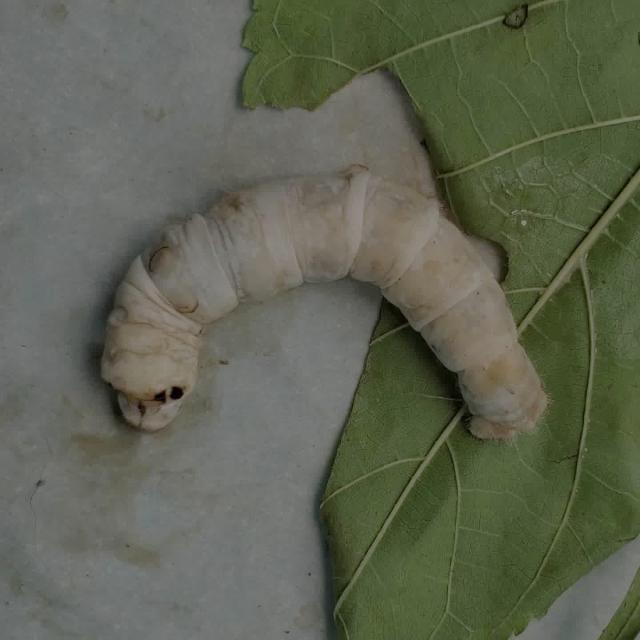Grasserie: (79, 134, 565, 511)
